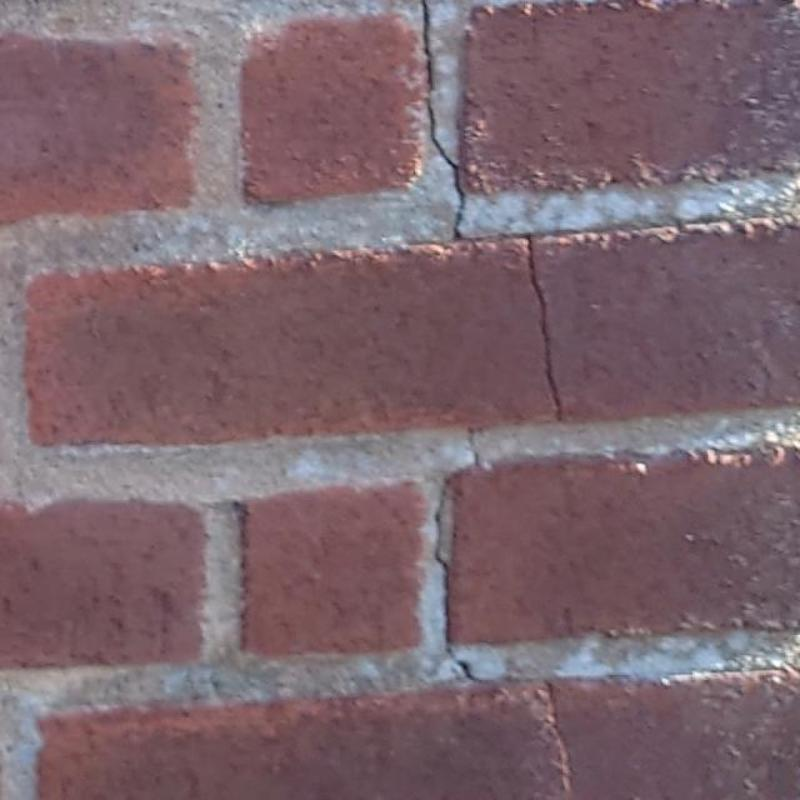crack: (432, 427, 497, 685), (423, 0, 464, 238), (521, 235, 563, 423)
